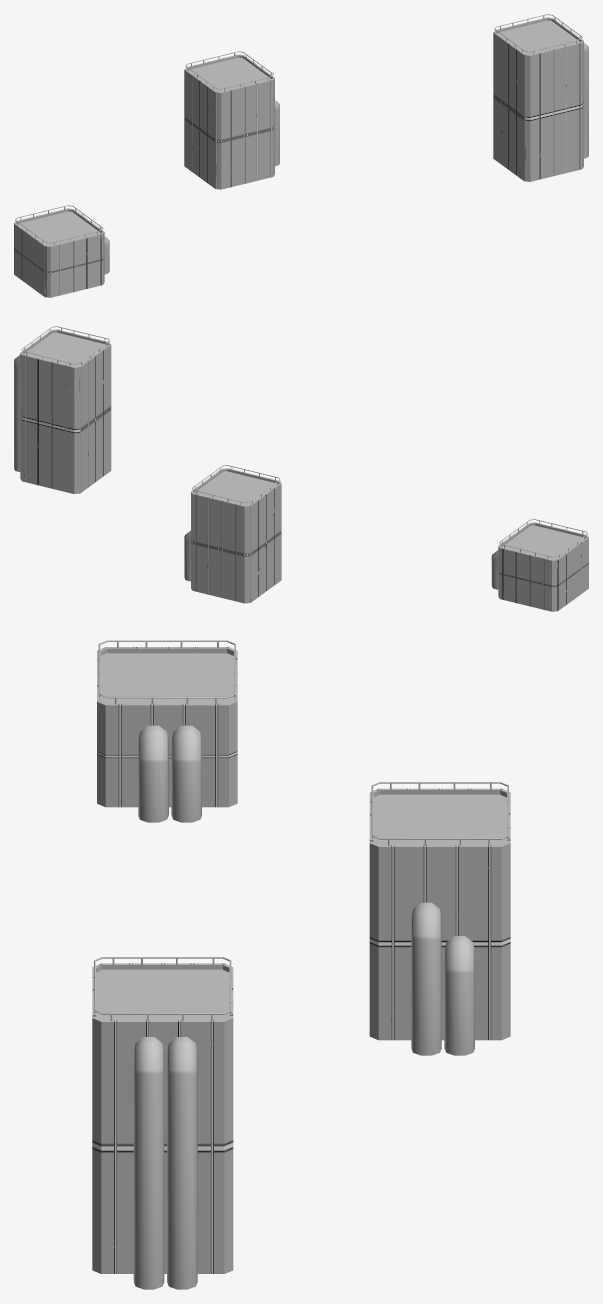
The model's file is let_4.FBX.
3 views of the same model, one above another, from view 1: azimuth 30°, elevation 25°; view 2: azimuth 150°, elevation 25°; view 3: azimuth 270°, elevation 25° (orthographic). The views are drawn at different scales.
Visible parts, largest first — view 1: Box008, Box007, Box006; view 2: Box008, Box007, Box006; view 3: Box008, Box007, Box006.
Part boxes in pixels (x1,y1,x2,y2): Box008: (493, 14, 588, 181); Box007: (184, 51, 279, 189); Box006: (14, 205, 109, 297); Box008: (14, 326, 111, 493); Box007: (184, 465, 281, 603); Box006: (491, 519, 588, 611); Box008: (92, 957, 233, 1289); Box007: (369, 782, 510, 1055); Box006: (97, 640, 237, 822).
Bounding box in the file's own units: 14.38 × 3.22 × 4.7.
